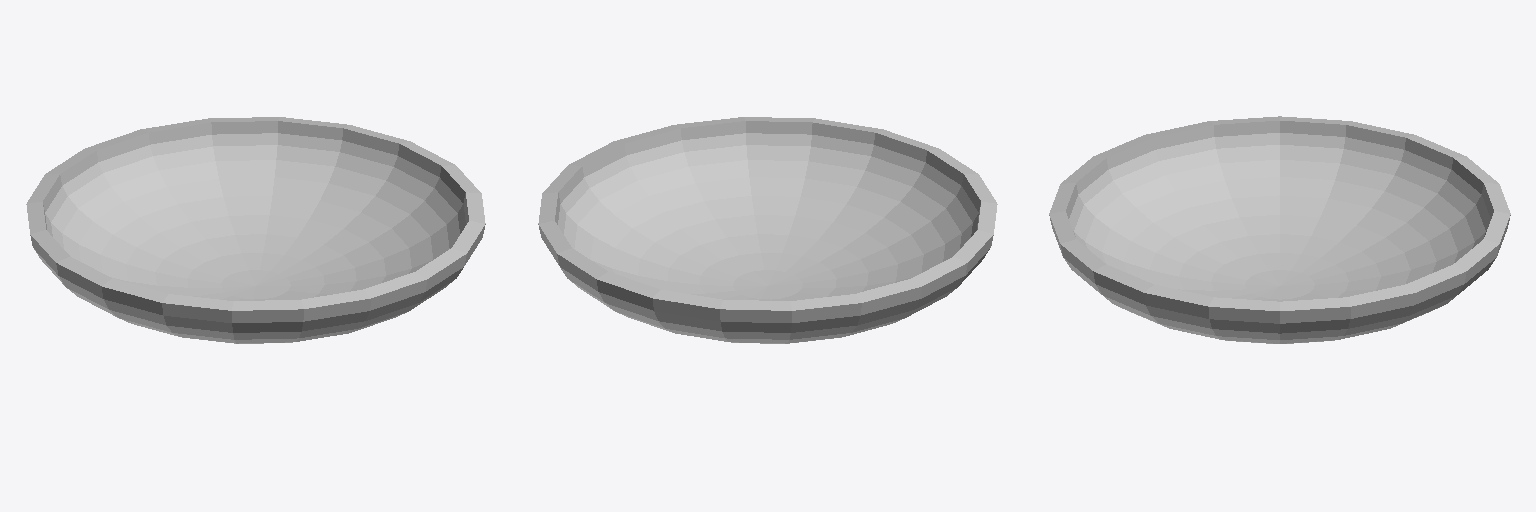
Rendered from bowl_test.obj.
The picture shows the model from 3 angles: view 1: azimuth 30°, elevation 25°; view 2: azimuth 150°, elevation 25°; view 3: azimuth 270°, elevation 25°; orthographic projection.
Bounding box in the file's own units: 22.25 × 4.78 × 22.25.